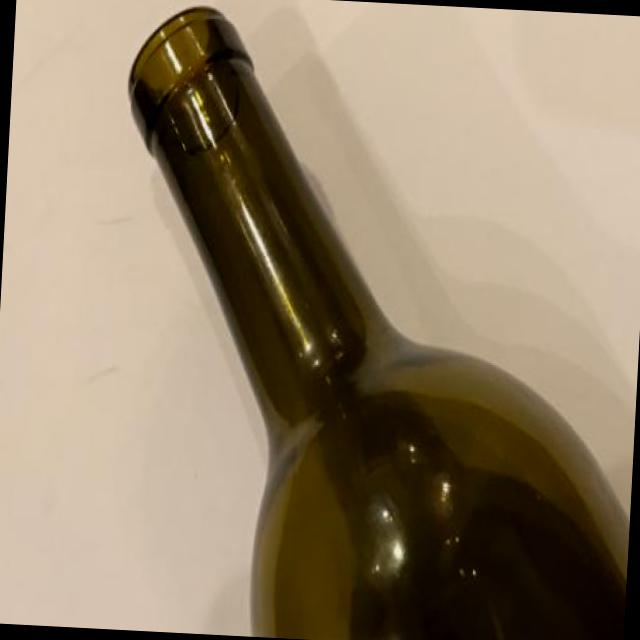chai_thuy_tinh: (129, 8, 630, 640)
